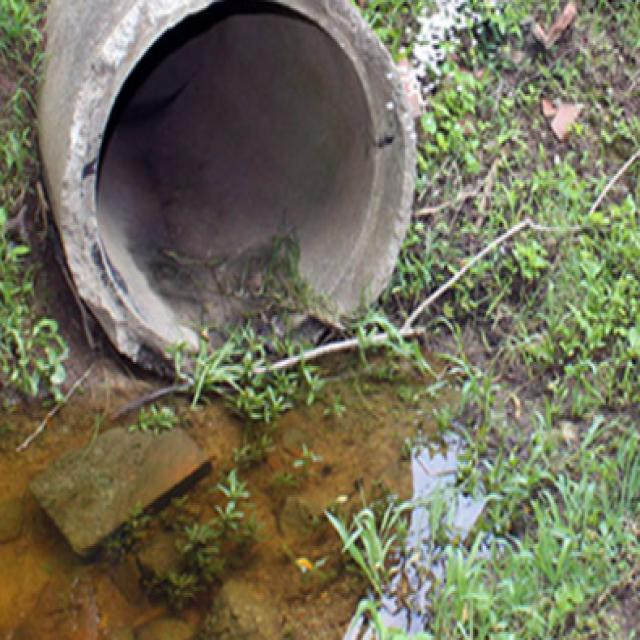Breeding Place: (0, 314, 598, 640), (28, 0, 433, 382)
